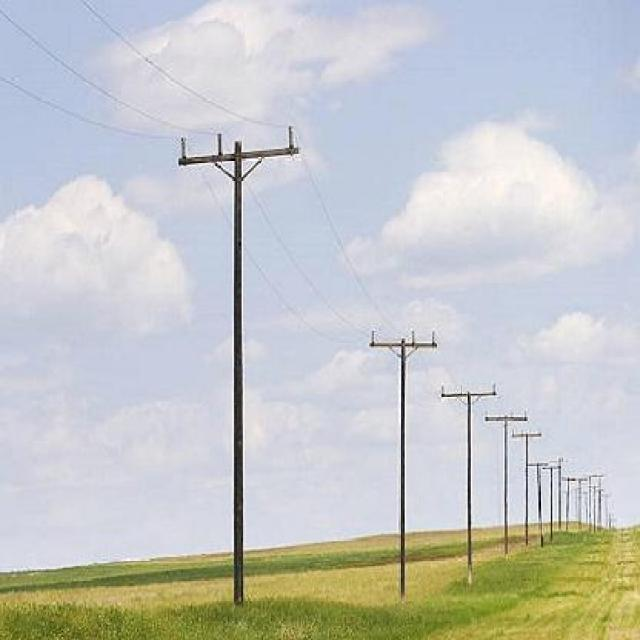pole: (165, 110, 308, 598), (363, 324, 445, 578), (444, 376, 498, 546), (510, 424, 544, 536)
